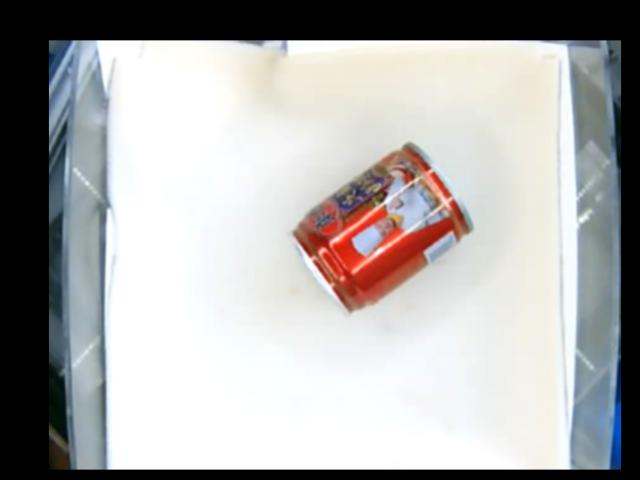Bottle: (289, 141, 471, 314)
